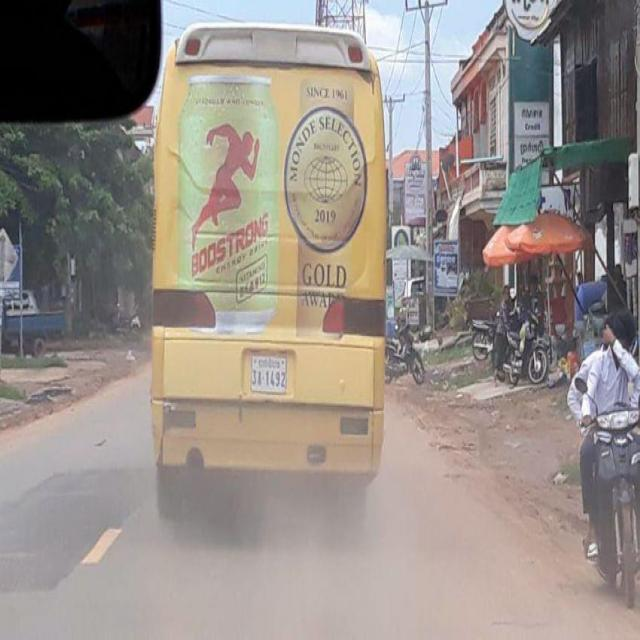Battambang: (258, 358, 280, 370)
